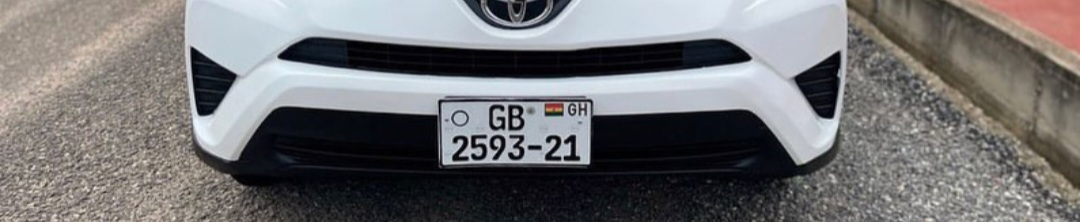number_ plates: (438, 98, 592, 169)
